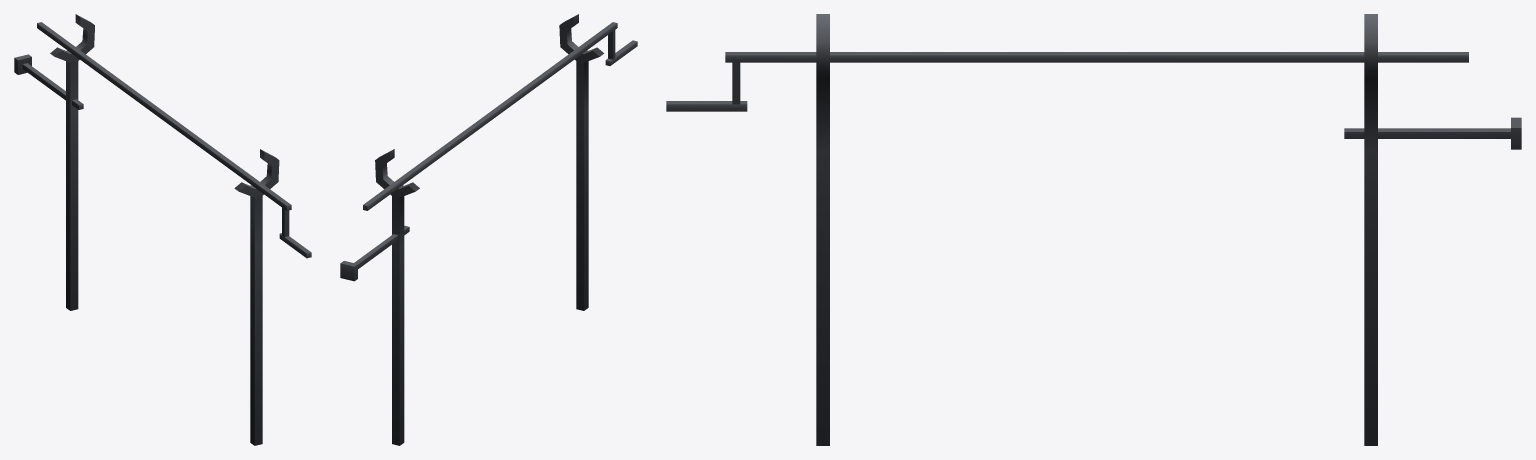
Rendered from Camp_Rotisory_1A.fbx.
3 renders of one model, left to right at view 1: azimuth 30°, elevation 25°; view 2: azimuth 150°, elevation 25°; view 3: azimuth 270°, elevation 25°, orthographic. The views are drawn at different scales.
Parts seen in each view (by area): view 1: Camp_Rotisory_1A, Camp_Rotisory_1A_Arm; view 2: Camp_Rotisory_1A, Camp_Rotisory_1A_Arm; view 3: Camp_Rotisory_1A, Camp_Rotisory_1A_Arm.
Boxes of the visible parts, x1,y1,x2,y2 form: Camp_Rotisory_1A: (14, 14, 279, 445); Camp_Rotisory_1A_Arm: (37, 22, 311, 258); Camp_Rotisory_1A: (340, 14, 603, 445); Camp_Rotisory_1A_Arm: (363, 22, 637, 210); Camp_Rotisory_1A: (816, 14, 1521, 445); Camp_Rotisory_1A_Arm: (666, 52, 1468, 111).
Size of the model in its own units: 16.53 by 113 by 203.
